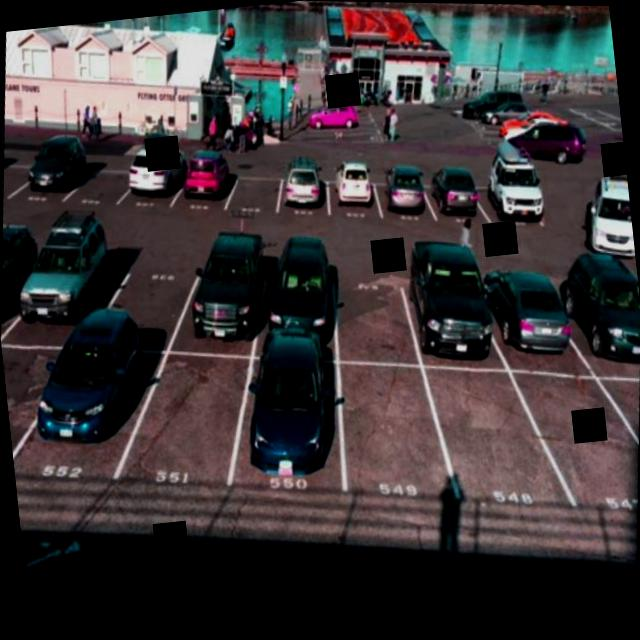car: (21, 312, 164, 489), (222, 336, 370, 504), (4, 204, 130, 344), (385, 254, 510, 378), (240, 234, 356, 358), (474, 262, 595, 378), (174, 229, 285, 352), (552, 262, 640, 381), (464, 156, 554, 250), (14, 128, 98, 214), (0, 216, 52, 352), (364, 156, 440, 234), (114, 144, 190, 220), (418, 158, 492, 236), (167, 143, 239, 220), (316, 153, 384, 230), (265, 154, 335, 227)
free: (402, 348, 565, 530), (501, 348, 640, 533), (318, 350, 464, 516), (125, 339, 268, 502), (82, 223, 217, 353), (306, 250, 438, 376), (0, 316, 71, 481), (62, 143, 140, 216), (214, 148, 288, 222), (0, 130, 45, 212)
